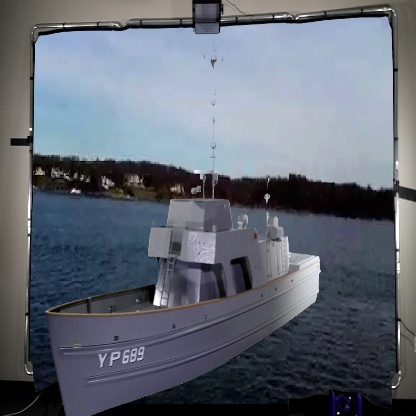YP689: (47, 34, 321, 415)
